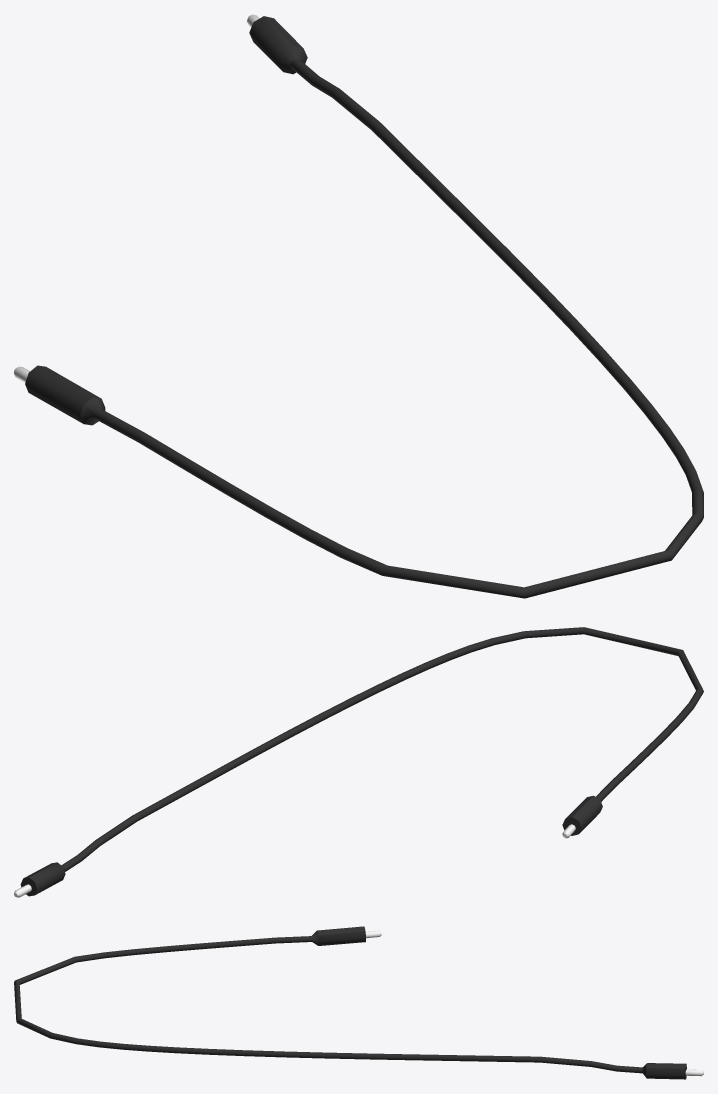
The model's file is ElectroWires03_2.FBX.
3 views of the same model, one above another, from view 1: azimuth 30°, elevation 25°; view 2: azimuth 150°, elevation 25°; view 3: azimuth 270°, elevation 25° (orthographic). The views are drawn at different scales.
Parts seen in each view (by area): view 1: Wires03; view 2: Wires03; view 3: Wires03.
Part boxes in pixels (box(x1,y1,x2,y2)): Wires03: box(14, 14, 703, 598); Wires03: box(14, 627, 703, 897); Wires03: box(14, 926, 703, 1079).
Bounding box in the file's own units: 56.2 × 3.3 × 114.
